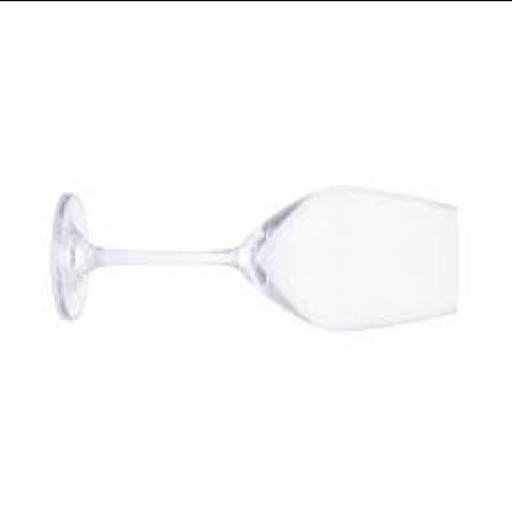glass: (61, 184, 462, 330)
